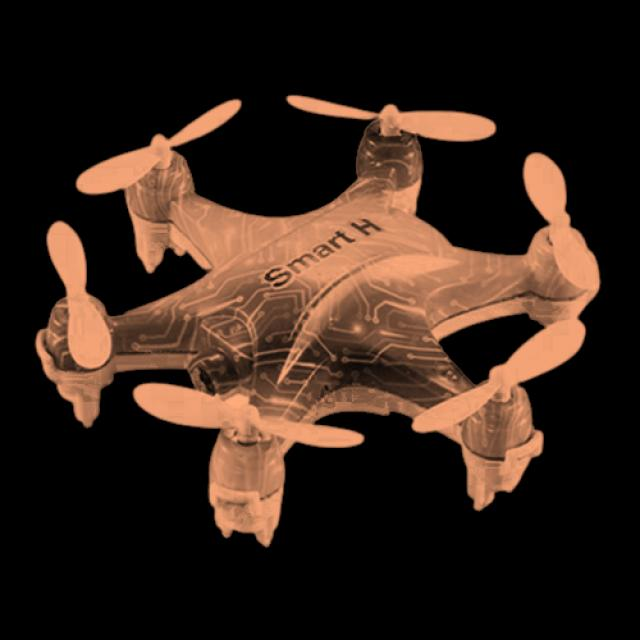drones: (33, 89, 613, 551)
